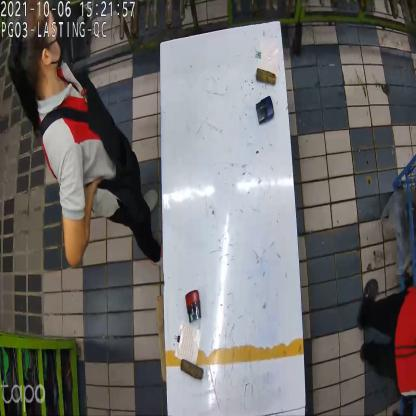stamp: (184, 291, 203, 326), (256, 95, 274, 128)
